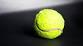ball_tennis: (34, 9, 65, 40)
